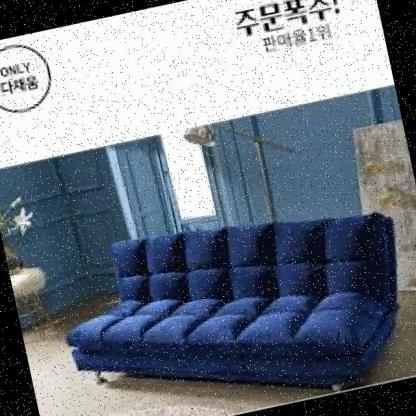Sofa: (70, 214, 416, 388)
